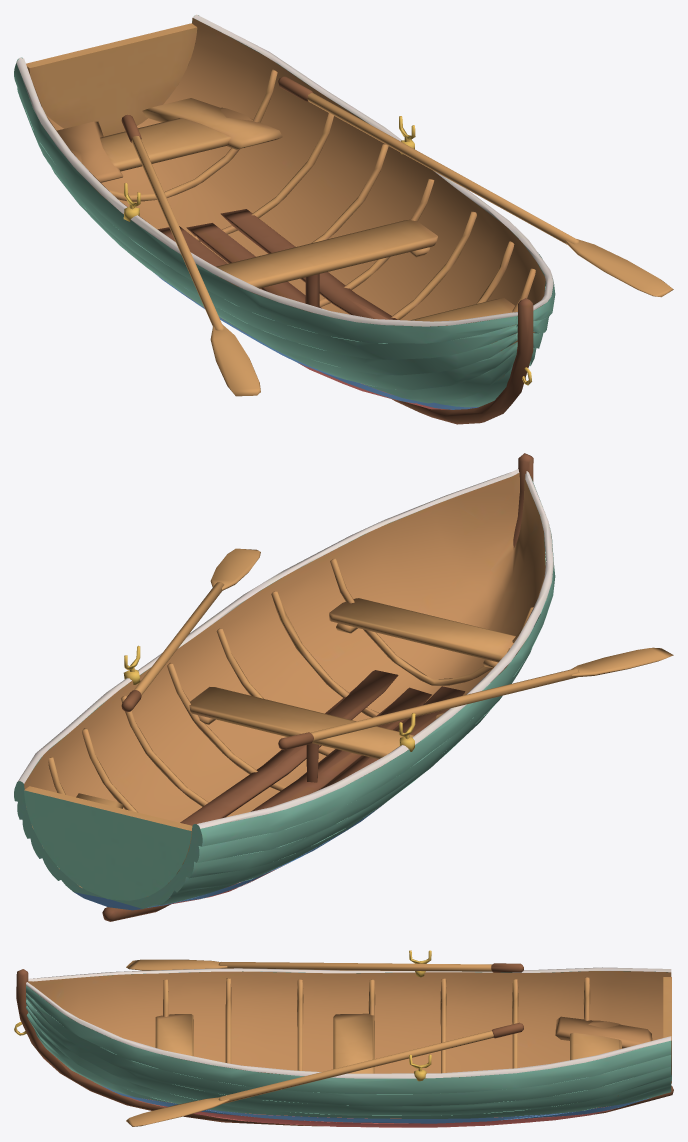
Rendered from rowboat.glb.
3 renders of one model, top to bottom at view 1: azimuth 30°, elevation 25°; view 2: azimuth 150°, elevation 25°; view 3: azimuth 270°, elevation 25°, orthographic. The views are drawn at different scales.
Visible parts, largest first — view 1: rowboat_body, rowboat_oar_port, rowboat_oar_starboard; view 2: rowboat_body, rowboat_oar_starboard, rowboat_oar_port; view 3: rowboat_body, rowboat_oar_port, rowboat_oar_starboard.
Boxes of the visible parts, x1,y1,x2,y2 form: rowboat_body: (14,14,555,424); rowboat_oar_port: (278,76,673,297); rowboat_oar_starboard: (121,114,260,396); rowboat_body: (14,453,555,921); rowboat_oar_starboard: (278,647,673,750); rowboat_oar_port: (121,548,260,712); rowboat_body: (14,950,673,1127); rowboat_oar_port: (126,1022,523,1126); rowboat_oar_starboard: (126,959,523,972).
Size of the model in its own units: 2.19 by 0.9646 by 3.68.
7 materials, 1 textured.
